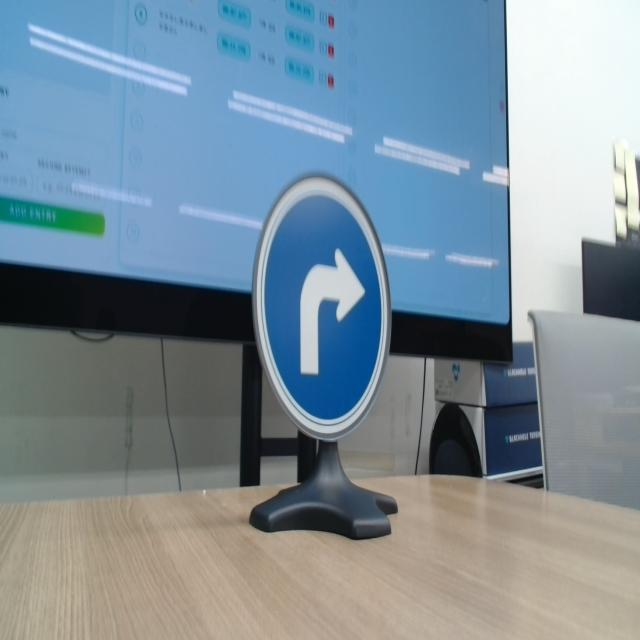right_dierection: (241, 164, 397, 445)
